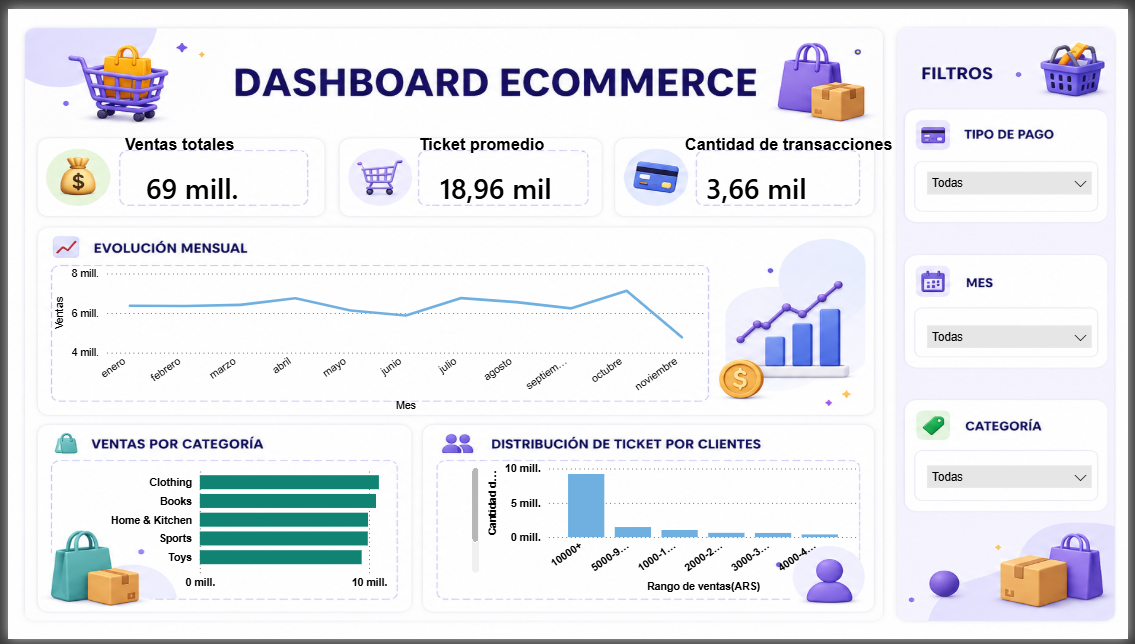

This screenshot's page, from the dashboard's own definition file:
{"tool":"powerbi","page":{"name":"Dashboard","canvas":[1280,720],"ordinal":0},"visuals":[{"type":"barChart","title":"Ventas por categoria","fields":{"Category":["ecommerce_dataset_clean.Category"],"Y":["Sum(ecommerce_dataset_clean.Final_Price)"]},"box":[112,512,432,160],"z":0},{"type":"lineChart","title":"Evolucion mensual de ventas","fields":{"Category":["ecommerce_dataset_clean.Purchase_Date.Variación.Jerarquía de fechas.Mes"],"Y":["Sum(ecommerce_dataset_clean.Final_Price)"]},"box":[48,288,752,176],"z":1000},{"type":"slicer","fields":{"Values":["ecommerce_dataset_clean.Purchase_Date.Variación.Jerarquía de fechas.Mes"]},"box":[1040,352,208,48],"z":2000},{"type":"slicer","fields":{"Values":["ecommerce_dataset_clean.Category"]},"box":[1040,512,208,48],"z":3000},{"type":"slicer","fields":{"Values":["ecommerce_dataset_clean.Payment_Method"]},"box":[1040,176,208,48],"z":4000},{"type":"cardVisual","title":"Ventas totales","fields":{"Data":["Sum(ecommerce_dataset_clean.Final_Price)"]},"box":[128,144,208,96],"z":5000},{"type":"cardVisual","title":"Ticket promedio","fields":{"Data":["Avg(ecommerce_dataset_clean.Final_Price)"]},"box":[464,144,224,96],"z":6000},{"type":"cardVisual","title":"Cantidad de transacciones","fields":{"Data":["CountNonNull(ecommerce_dataset_clean.Final_Price)"]},"box":[768,144,272,96],"z":7000},{"type":"columnChart","fields":{"Category":["ecommerce_dataset_clean.RangoVentas"],"Y":["Sum(ecommerce_dataset_clean.Frecuencia)"]},"box":[544,512,432,160],"z":8000}]}

Visuals, with their boxes in screenshot pixels (x1, y1, x2, y2), scaled from the page's 1280x720 canvas onto the 1135x644 screenshot:
"Ventas por categoria" barChart: box(99, 458, 482, 601)
"Evolucion mensual de ventas" lineChart: box(43, 258, 709, 415)
slicer - ecommerce_dataset_clean.Purchase_Date.Variación.Jerarquía de fechas.Mes: box(922, 315, 1107, 358)
slicer - ecommerce_dataset_clean.Category: box(922, 458, 1107, 501)
slicer - ecommerce_dataset_clean.Payment_Method: box(922, 157, 1107, 200)
"Ventas totales" cardVisual: box(114, 129, 298, 215)
"Ticket promedio" cardVisual: box(411, 129, 610, 215)
"Cantidad de transacciones" cardVisual: box(681, 129, 922, 215)
columnChart - ecommerce_dataset_clean.RangoVentas x Sum(ecommerce_dataset_clean.Frecuencia): box(482, 458, 865, 601)
